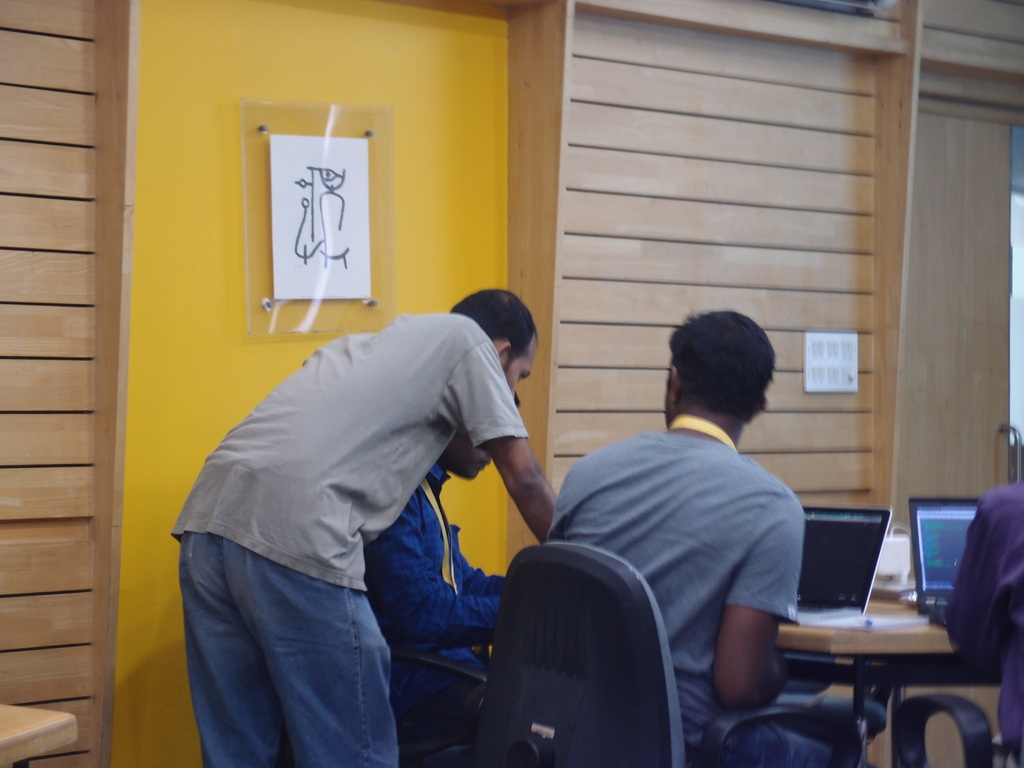Person: (169, 288, 560, 768), (544, 312, 878, 768), (359, 388, 514, 768), (942, 481, 1024, 767)
